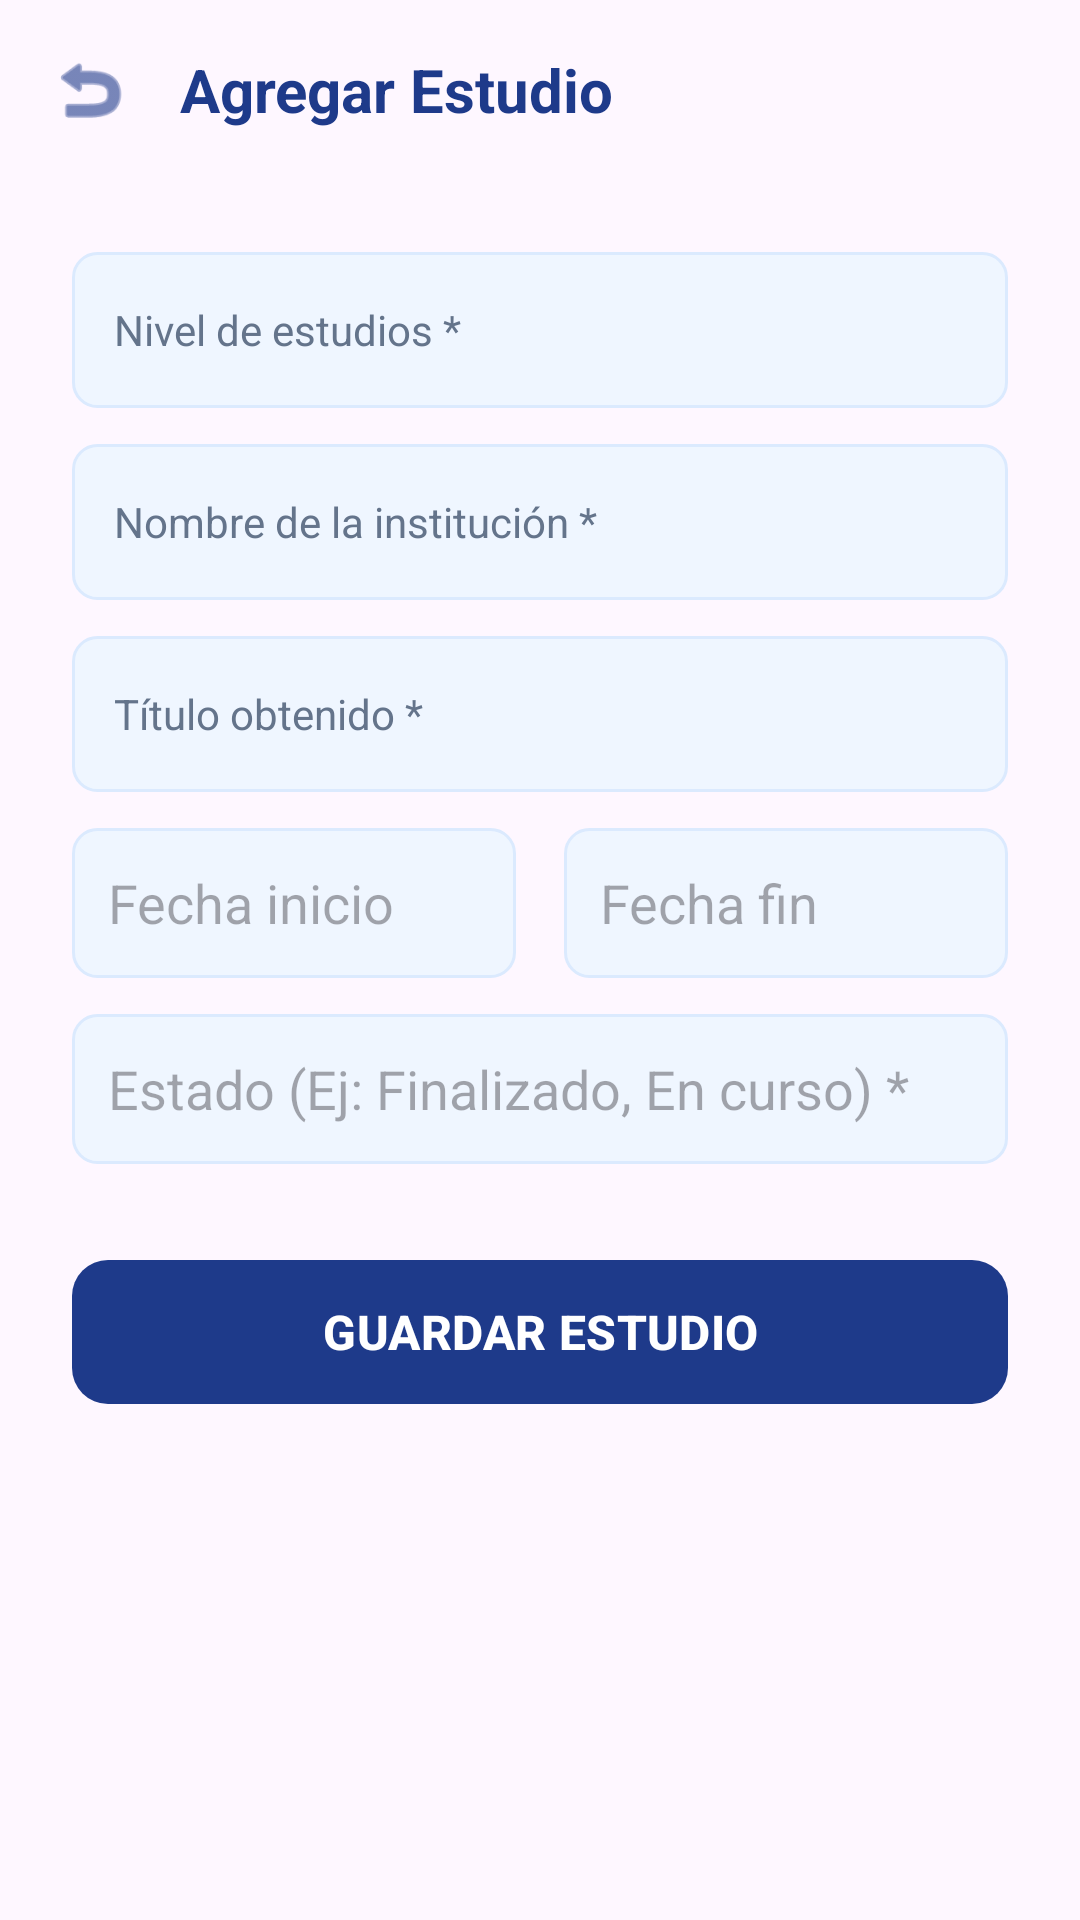

Screen size 1080 x 1920. Icon name, then its box in pixels as {"x1": x1, "y1": y1, "x2": x2, "y2": y2}:
Regresar: {"x1": 61, "y1": 63, "x2": 121, "y2": 118}
